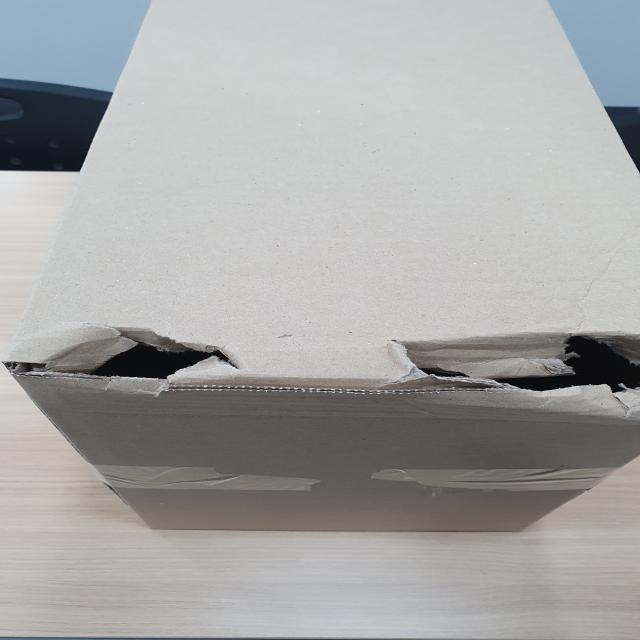hole: (397, 328, 640, 416), (23, 334, 242, 393)
